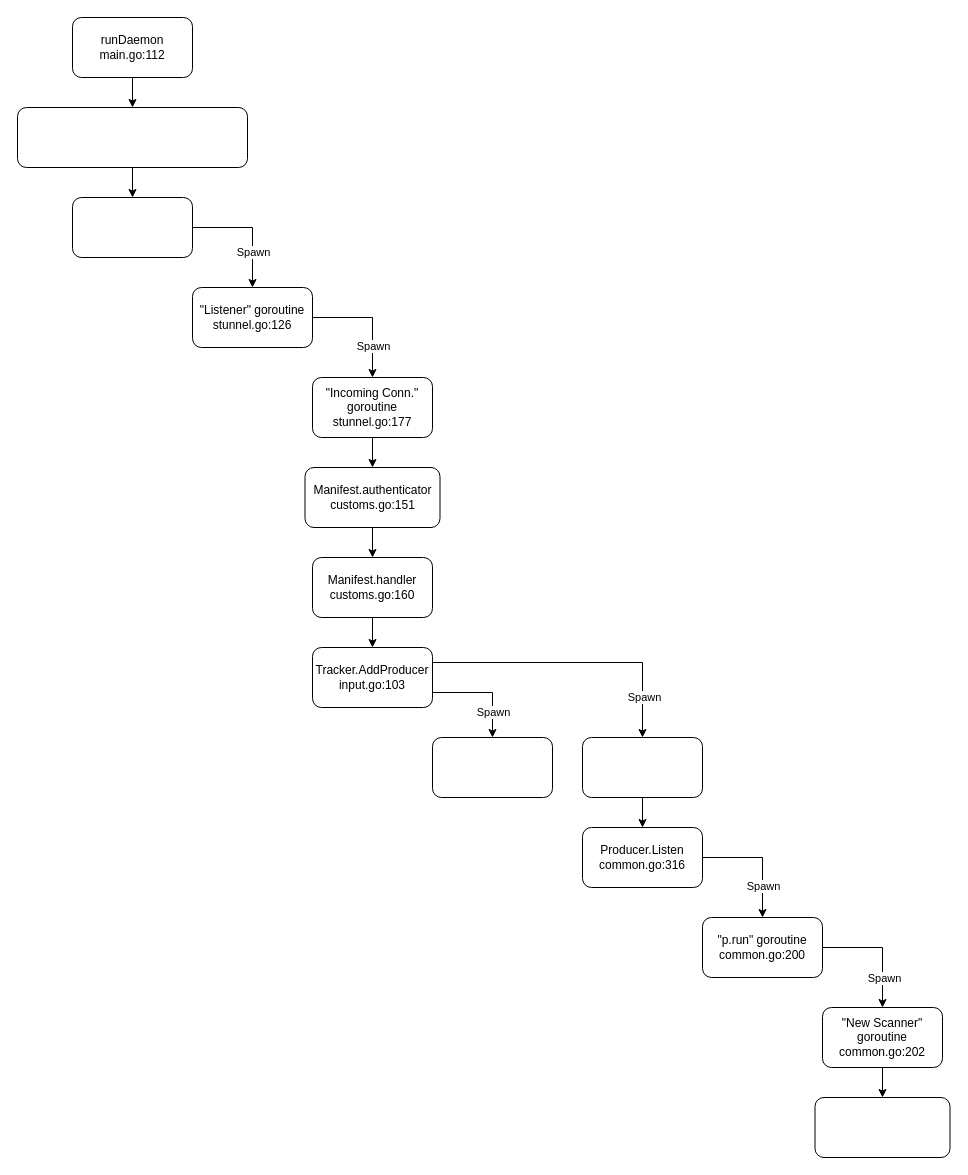
This 968x1175 diagram has some shape labels left out. Each missing label, with the box of its shape:
"Worker Monitor" goroutine input.go:118: (432, 736, 552, 798)
"Worker" goroutine input.go:130: (582, 736, 702, 798)
Listener.Listen stunnel.go:96: (72, 196, 192, 258)
ListenForIncomingPlaneWatchBeast customs.go:83: (16, 106, 248, 168)
Producer.beastScanner beast.go:14: (814, 1096, 950, 1158)
